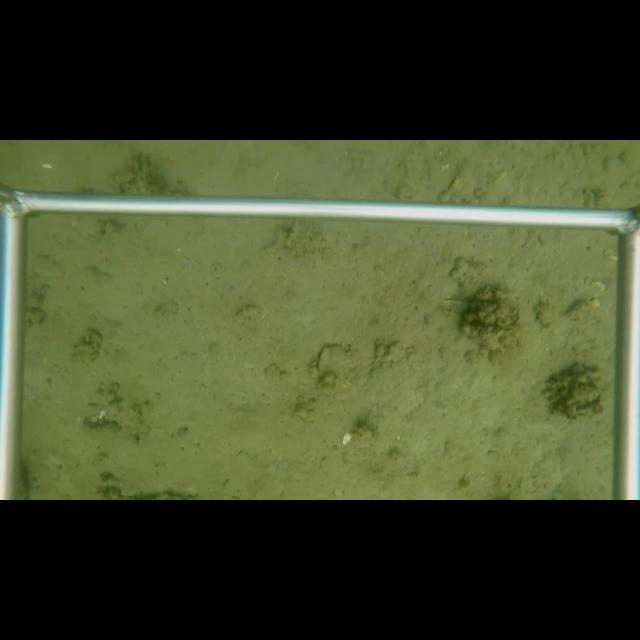Oyster-Closed: (315, 341, 355, 379)
